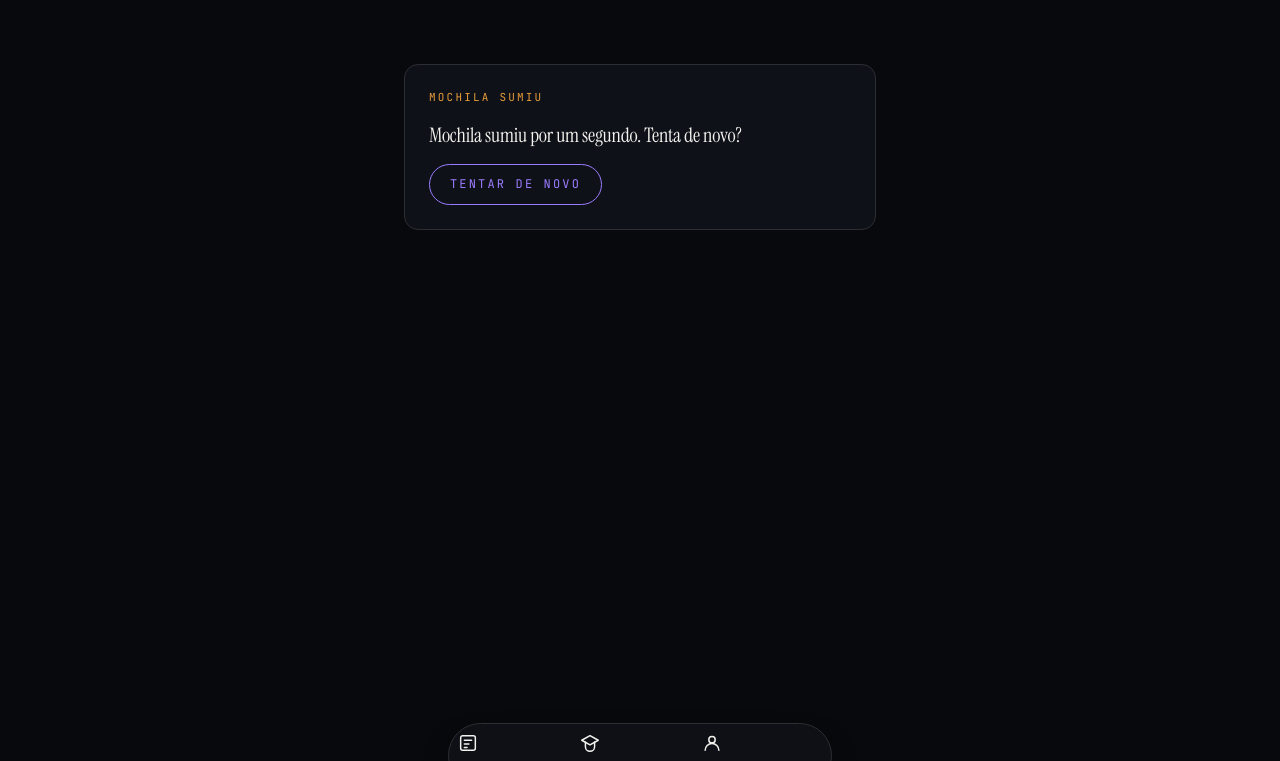
Test case: PerfilPage › renders the backpack error state and recovers on retry when fetchProfile throws
Expected: the text "Mochila sumiu por um segundo. Tenta de novo?" is shown, [429,122,742,148]
Click the button "Tentar de novo". click: (516, 184)
box: [429,164,602,205]
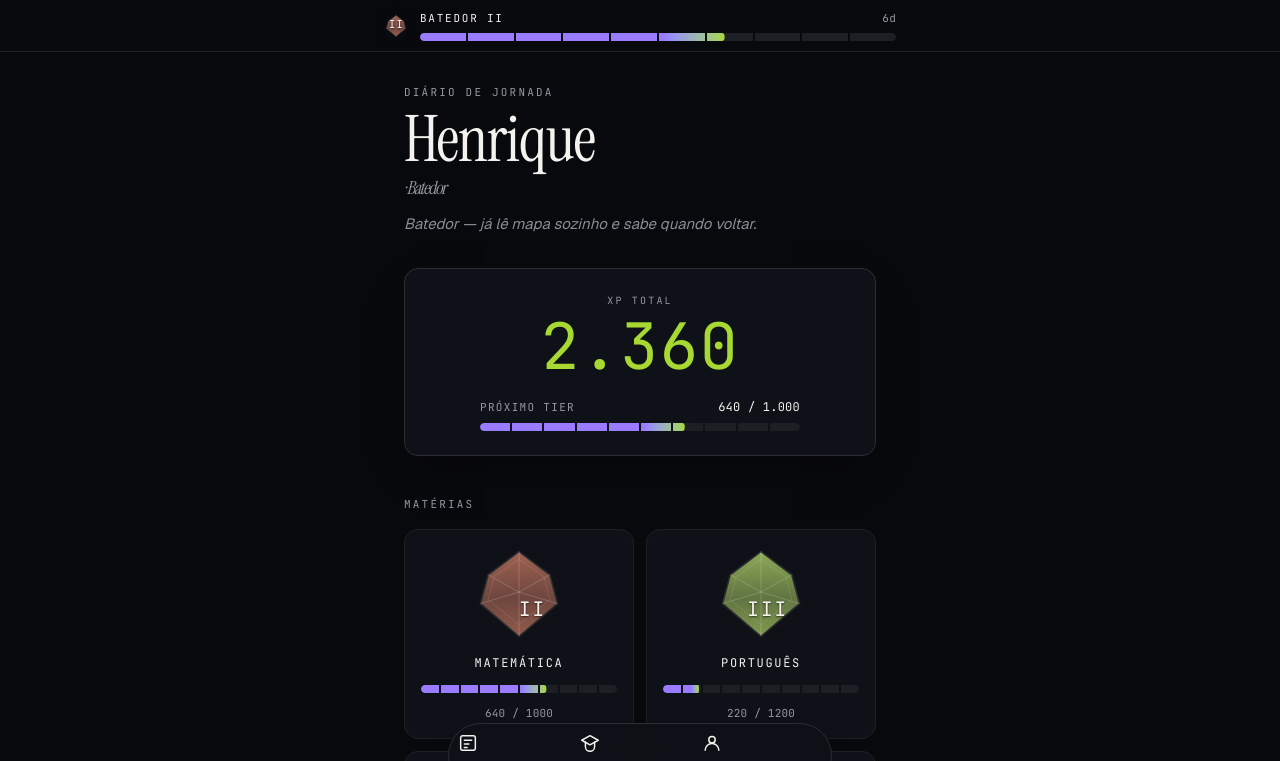
Expected: the heading "Henrique · Batedor" is shown, [404,98,595,200]
